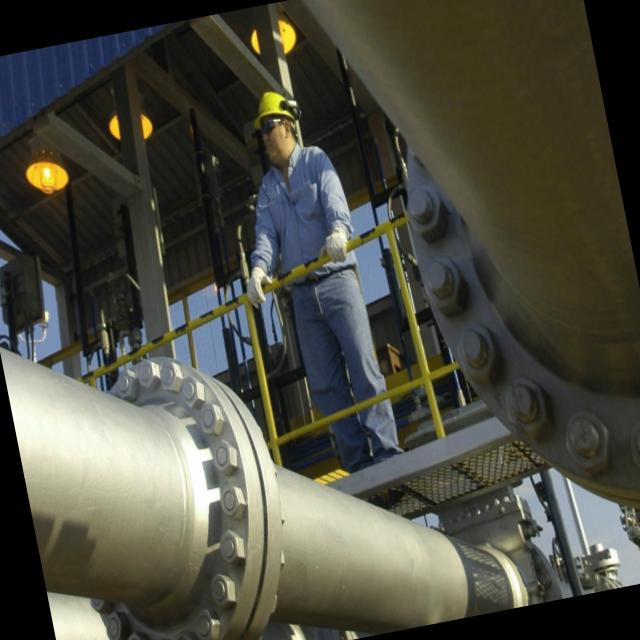gas: (0, 350, 512, 631), (304, 0, 640, 388)
